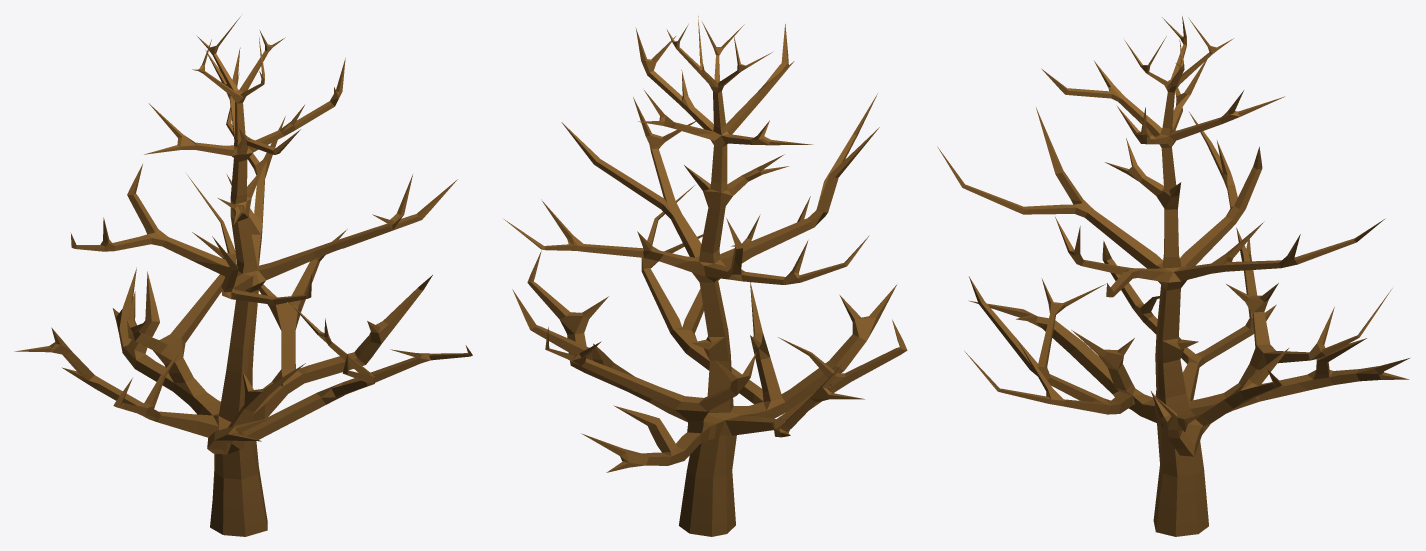
File: tree2.fbx
3 views of the same model, side by side, from view 1: azimuth 30°, elevation 25°; view 2: azimuth 150°, elevation 25°; view 3: azimuth 270°, elevation 25° (orthographic).
Parts seen in each view (by area): view 1: Tree_giant_bare; view 2: Tree_giant_bare; view 3: Tree_giant_bare.
Part boxes in pixels (<box>): Tree_giant_bare: <box>14,16,472,536</box>; Tree_giant_bare: <box>504,16,907,536</box>; Tree_giant_bare: <box>937,16,1409,536</box>.
Bounding box in the file's own units: 91.62 × 119 × 99.99.
1 material, 1 textured.
